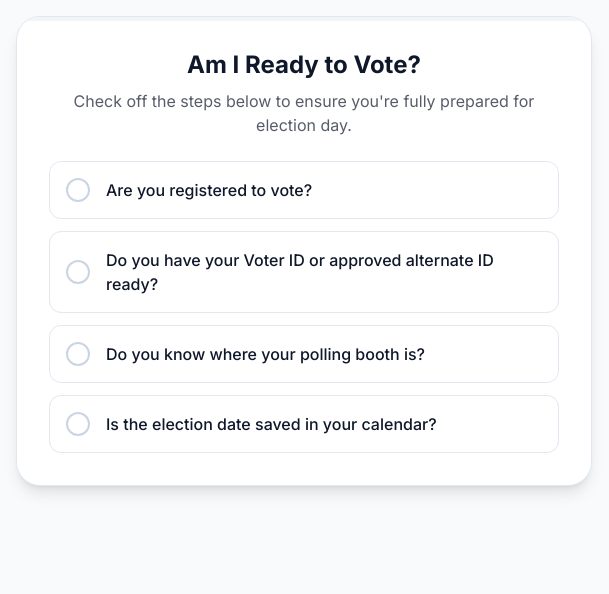
it: ReadyToVoteChecklist › shows success message when 100% complete
The image size is (609, 594).
Click the checkbox labelled "Are you registered to vote?": (304, 190) [49,161,559,219]
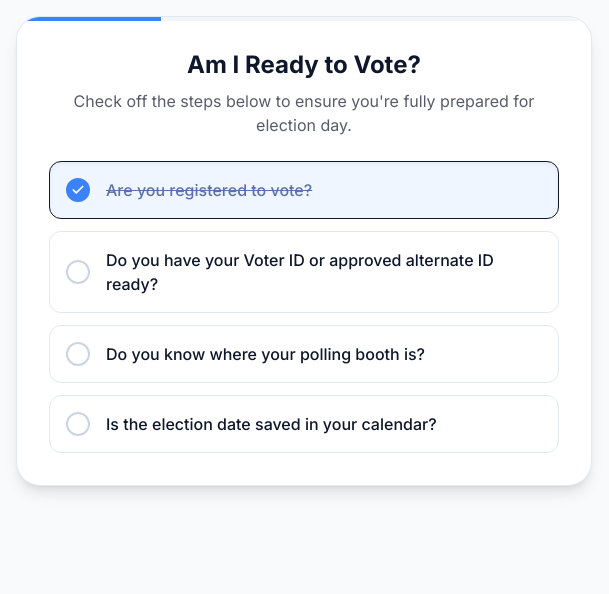
Click the checkbox labelled "Do you have your Voter ID or approved alternate ID ready?": (304, 272) [49,231,559,313]
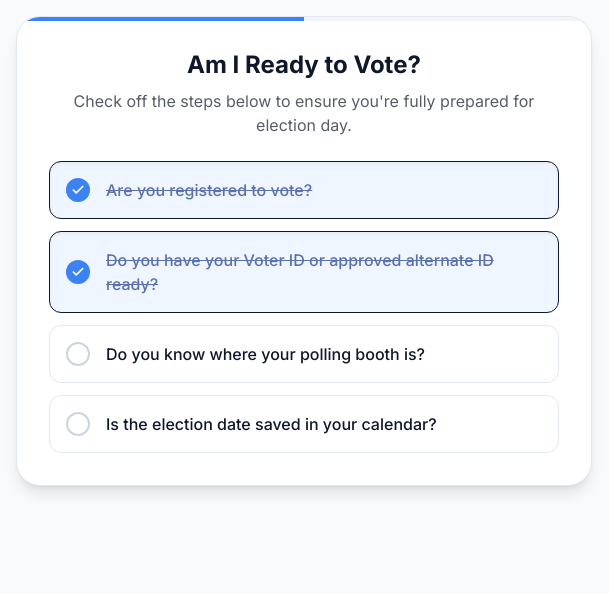
Click the checkbox labelled "Do you know where your polling booth is?": (304, 354) [49,325,559,383]
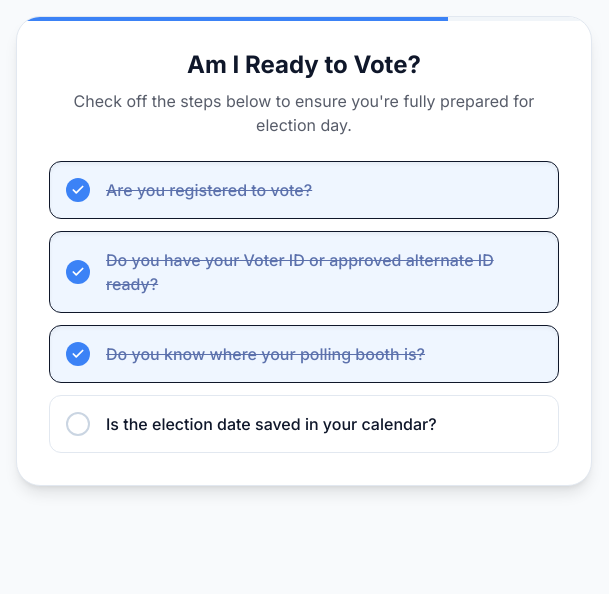
Click the checkbox labelled "Is the election date saved in your calendar?": (304, 424) [49,395,559,453]
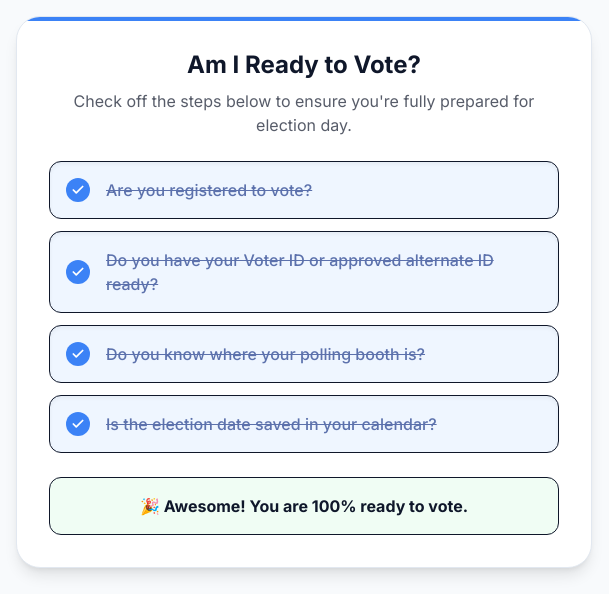
Expected: the text "🎉 Awesome! You are 100% ready to vote." is shown, [49,477,559,535]
